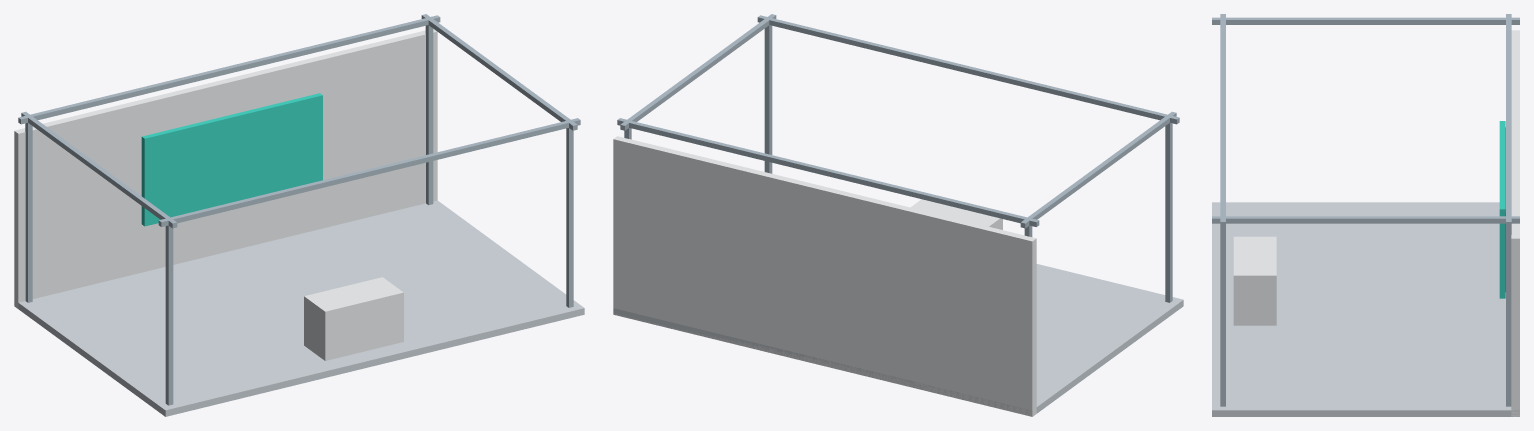
The picture shows the model from 3 angles, left to right: view 1: azimuth 30°, elevation 25°; view 2: azimuth 150°, elevation 25°; view 3: azimuth 270°, elevation 25°; orthographic projection.
Parts seen in each view (by area): view 1: Exhibition Booth Concept; view 2: Exhibition Booth Concept; view 3: Exhibition Booth Concept.
Part boxes in pixels (x1,y1,x2,y2): Exhibition Booth Concept: (14, 14, 584, 416); Exhibition Booth Concept: (613, 14, 1183, 416); Exhibition Booth Concept: (1212, 14, 1519, 416).
Bounding box in the file's own units: 8 × 3.49 × 5.
